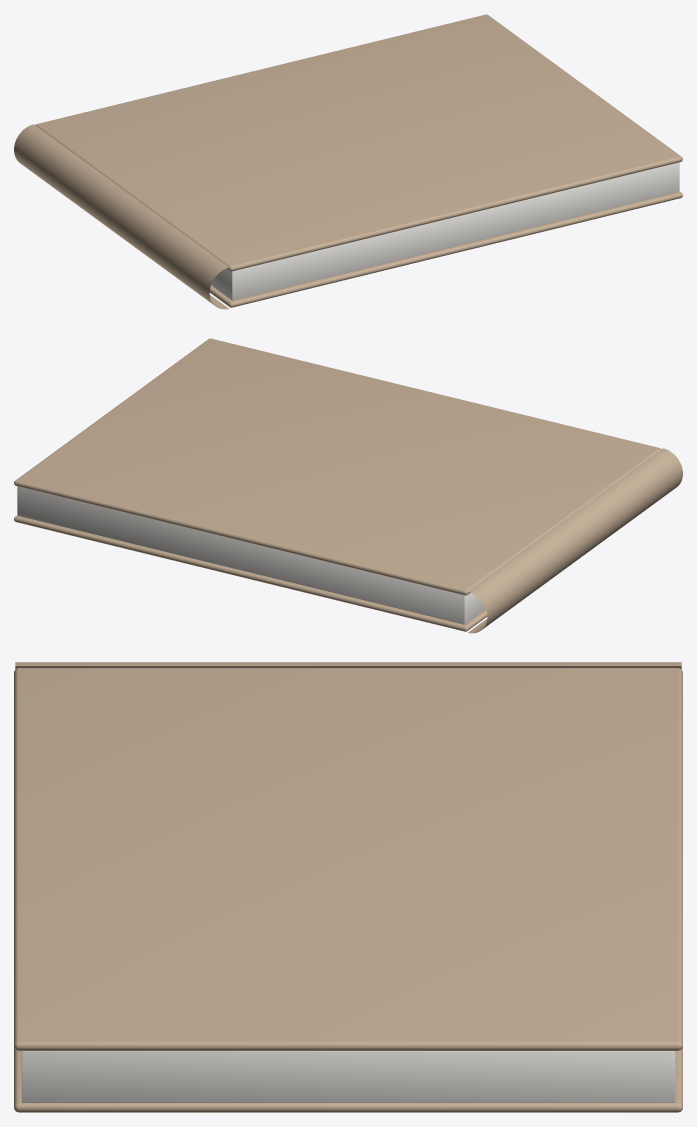
The model's file is monogram--landscape.glb.
3 renders of one model, top to bottom at view 1: azimuth 30°, elevation 25°; view 2: azimuth 150°, elevation 25°; view 3: azimuth 270°, elevation 25°, orthographic. The views are drawn at different scales.
Parts seen in each view (by area): view 1: CoverFront, Pages, Spine, CoverBack; view 2: CoverFront, Pages, Spine, CoverBack; view 3: CoverFront, Pages, CoverBack, Spine.
Boxes of the visible parts, x1=… form: CoverFront: x1=35, y1=14, x2=682, y2=271; Pages: x1=211, y1=162, x2=679, y2=300; Spine: x1=14, y1=124, x2=228, y2=309; CoverBack: x1=209, y1=191, x2=682, y2=307; CoverFront: x1=14, y1=338, x2=661, y2=595; Pages: x1=17, y1=486, x2=485, y2=624; Spine: x1=468, y1=448, x2=682, y2=633; CoverBack: x1=14, y1=515, x2=487, y2=631; CoverFront: x1=14, y1=668, x2=682, y2=1050; Pages: x1=21, y1=1051, x2=675, y2=1102; CoverBack: x1=14, y1=1047, x2=682, y2=1112; Spine: x1=15, y1=662, x2=681, y2=669.
Bounding box in the file's own units: 0.4179 × 0.0352 × 0.3.
